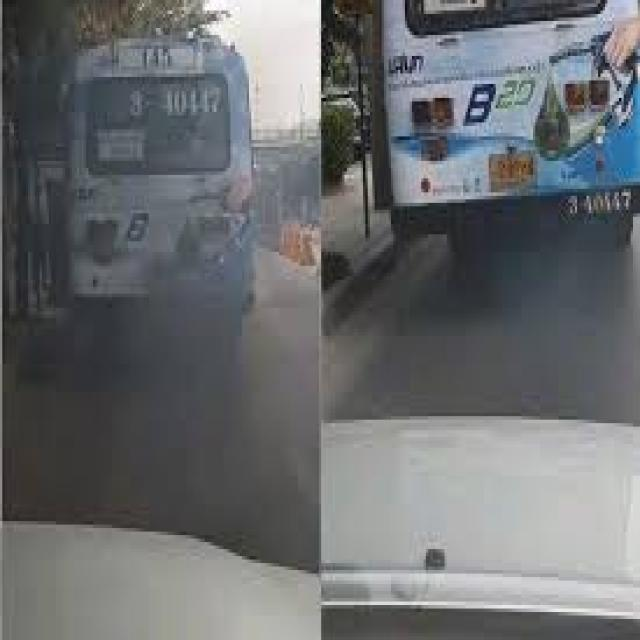Smoke: (137, 266, 320, 529), (456, 239, 626, 422)
